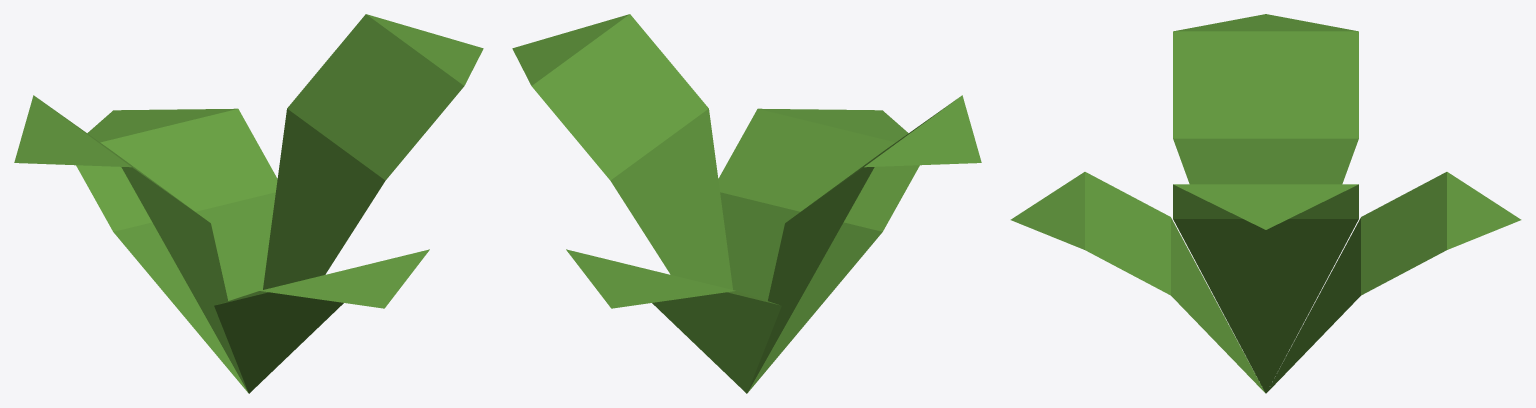
File: plant_bush.glb
3 renders of one model, left to right at view 1: azimuth 30°, elevation 25°; view 2: azimuth 150°, elevation 25°; view 3: azimuth 270°, elevation 25°, orthographic. The views are drawn at different scales.
Visible parts, largest first — view 1: plant_bush; view 2: plant_bush; view 3: plant_bush.
Boxes of the visible parts, left/top/right/bottom form: plant_bush: left=14, top=14, right=483, bottom=393; plant_bush: left=512, top=14, right=981, bottom=393; plant_bush: left=1010, top=14, right=1521, bottom=393.
Bounding box in the file's own units: 0.396 × 0.2444 × 0.396.
